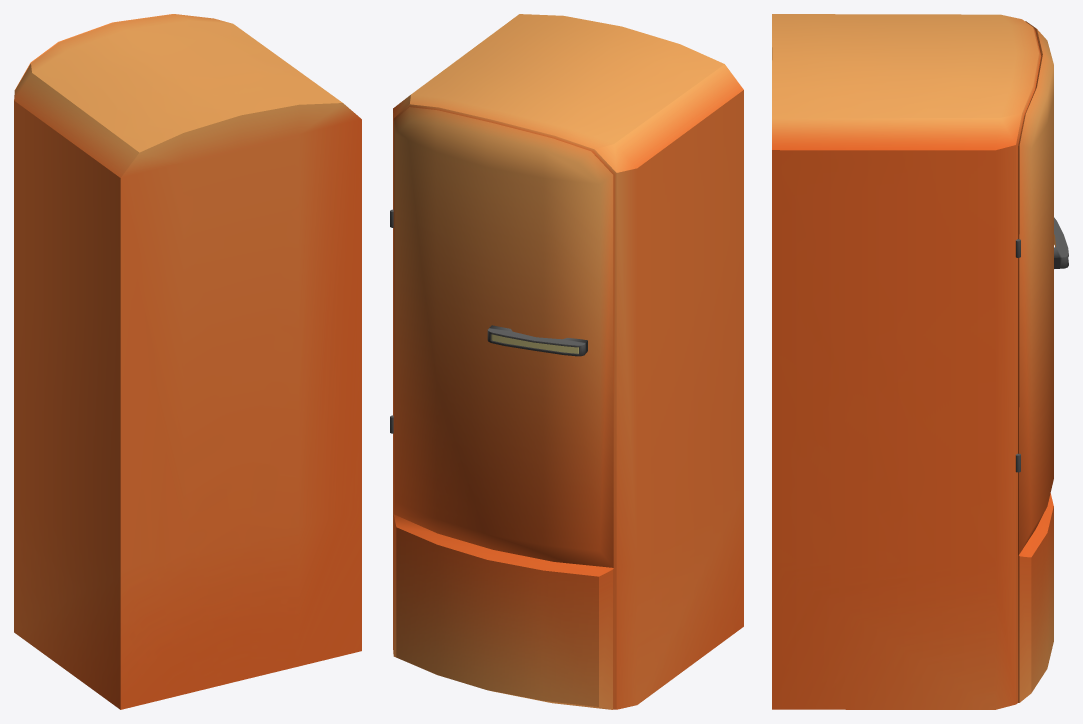
File: fridge.FBX
3 renders of one model, left to right at view 1: azimuth 30°, elevation 25°; view 2: azimuth 150°, elevation 25°; view 3: azimuth 270°, elevation 25°, orthographic. The views are drawn at different scales.
Parts seen in each view (by area): view 1: fridge; view 2: fridge; view 3: fridge.
Boxes of the visible parts, x1,y1,x2,y2 form: fridge: (14, 14, 361, 709); fridge: (390, 14, 743, 709); fridge: (772, 14, 1068, 709).
Bounding box in the file's own units: 71.36 × 159 × 71.99.
1 material, 1 textured.
